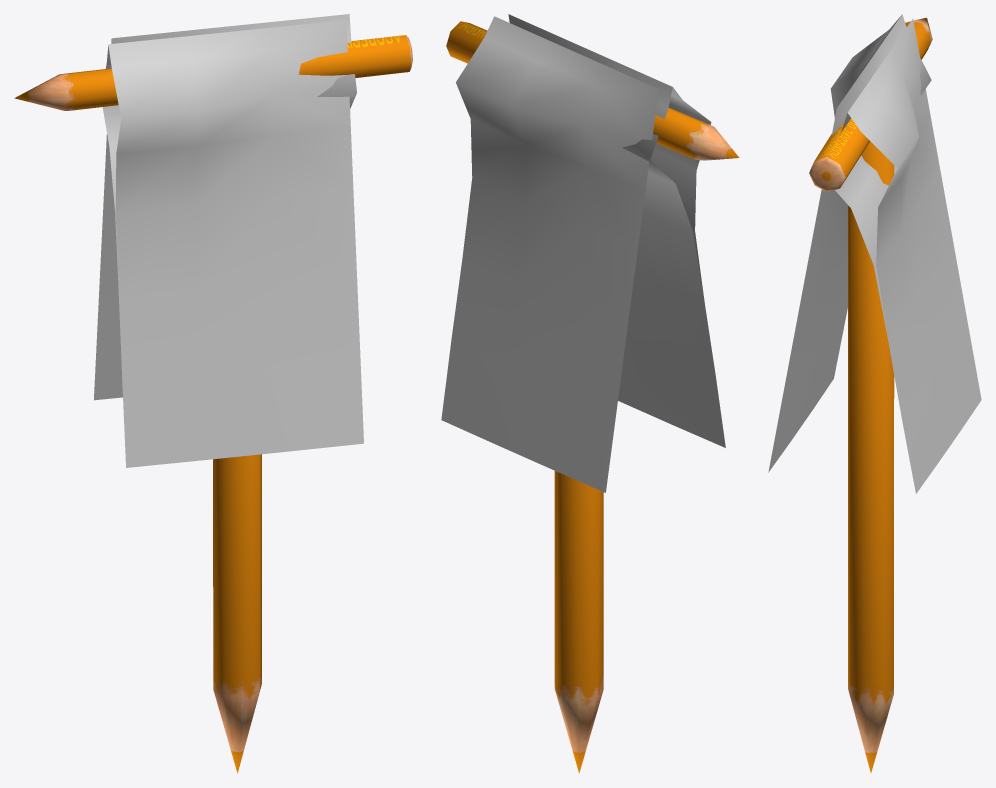
File: flagpole.fbx
3 views of the same model, side by side, from view 1: azimuth 30°, elevation 25°; view 2: azimuth 150°, elevation 25°; view 3: azimuth 270°, elevation 25° (orthographic). The views are drawn at different scales.
Parts seen in each view (by area): view 1: SlacktideFlag__1_, pencil_02_B, SlacktideFlag, pencil_02_B_1; view 2: SlacktideFlag, SlacktideFlag__1_, pencil_02_B, pencil_02_B_1; view 3: SlacktideFlag, pencil_02_B, SlacktideFlag__1_, pencil_02_B_1.
Part boxes in pixels (left/top/right/bottom): SlacktideFlag__1_: left=102, top=20, right=363, bottom=467; pencil_02_B: left=213, top=454, right=261, bottom=773; SlacktideFlag: left=94, top=14, right=356, bottom=400; pencil_02_B_1: left=14, top=35, right=412, bottom=110; SlacktideFlag: left=441, top=16, right=658, bottom=492; SlacktideFlag__1_: left=508, top=14, right=725, bottom=447; pencil_02_B: left=554, top=471, right=603, bottom=773; pencil_02_B_1: left=446, top=21, right=739, bottom=160; SlacktideFlag: left=835, top=18, right=981, bottom=493; pencil_02_B: left=848, top=141, right=894, bottom=772; SlacktideFlag__1_: left=768, top=14, right=931, bottom=472; pencil_02_B_1: left=809, top=17, right=932, bottom=191.
Size of the model in its own units: 1235 by 2544 by 695.
Materials: 2 (1 with a texture image).
